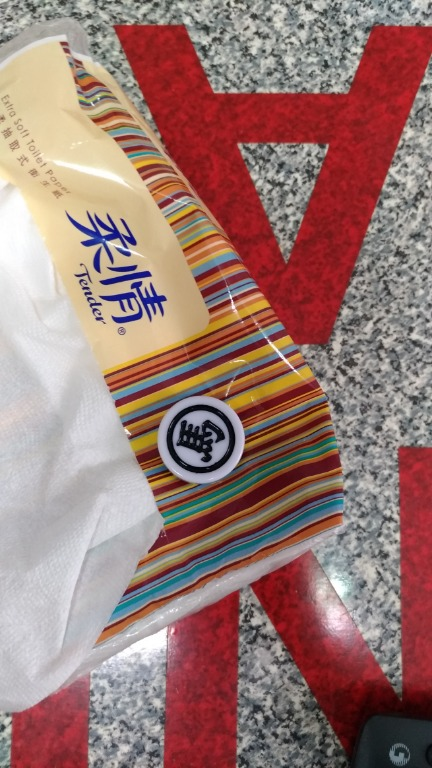b-knight: (139, 392, 247, 486)
